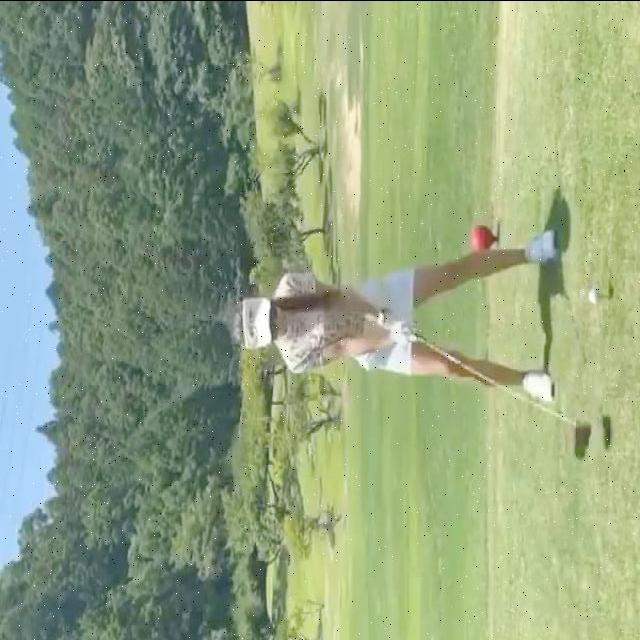ClubHandle: (404, 327, 591, 457)
ClubHead: (571, 419, 589, 456)
GolfBall: (589, 288, 602, 302)
